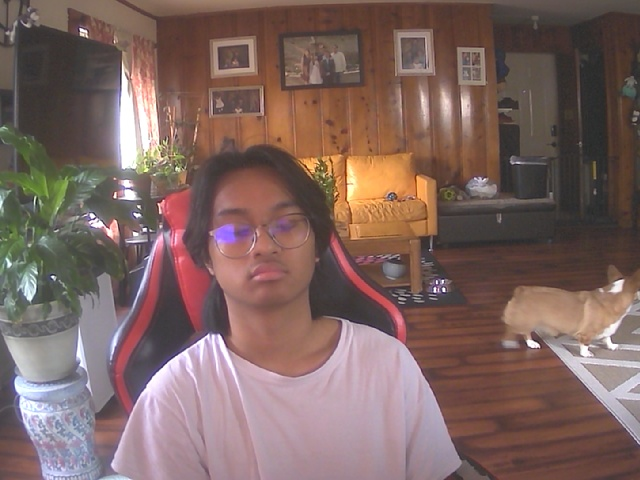neutral: (204, 162, 325, 312)
